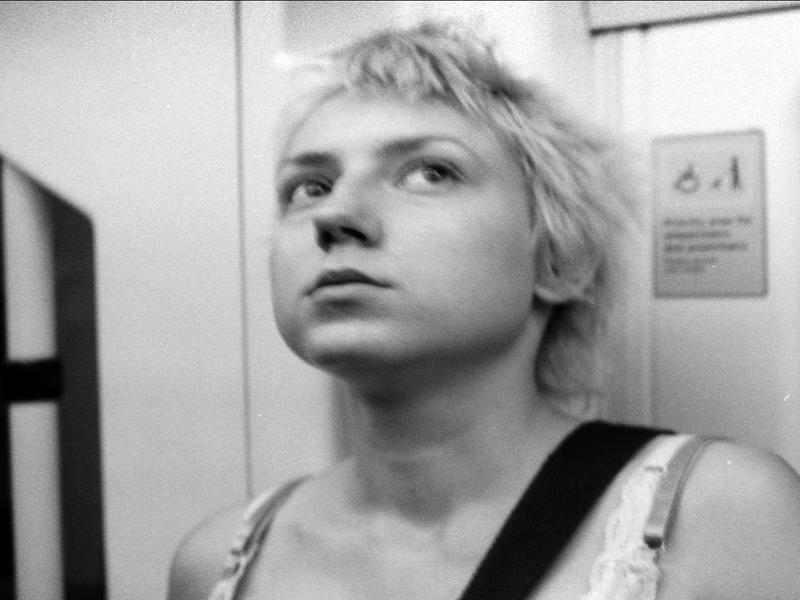person: (173, 25, 798, 600)
